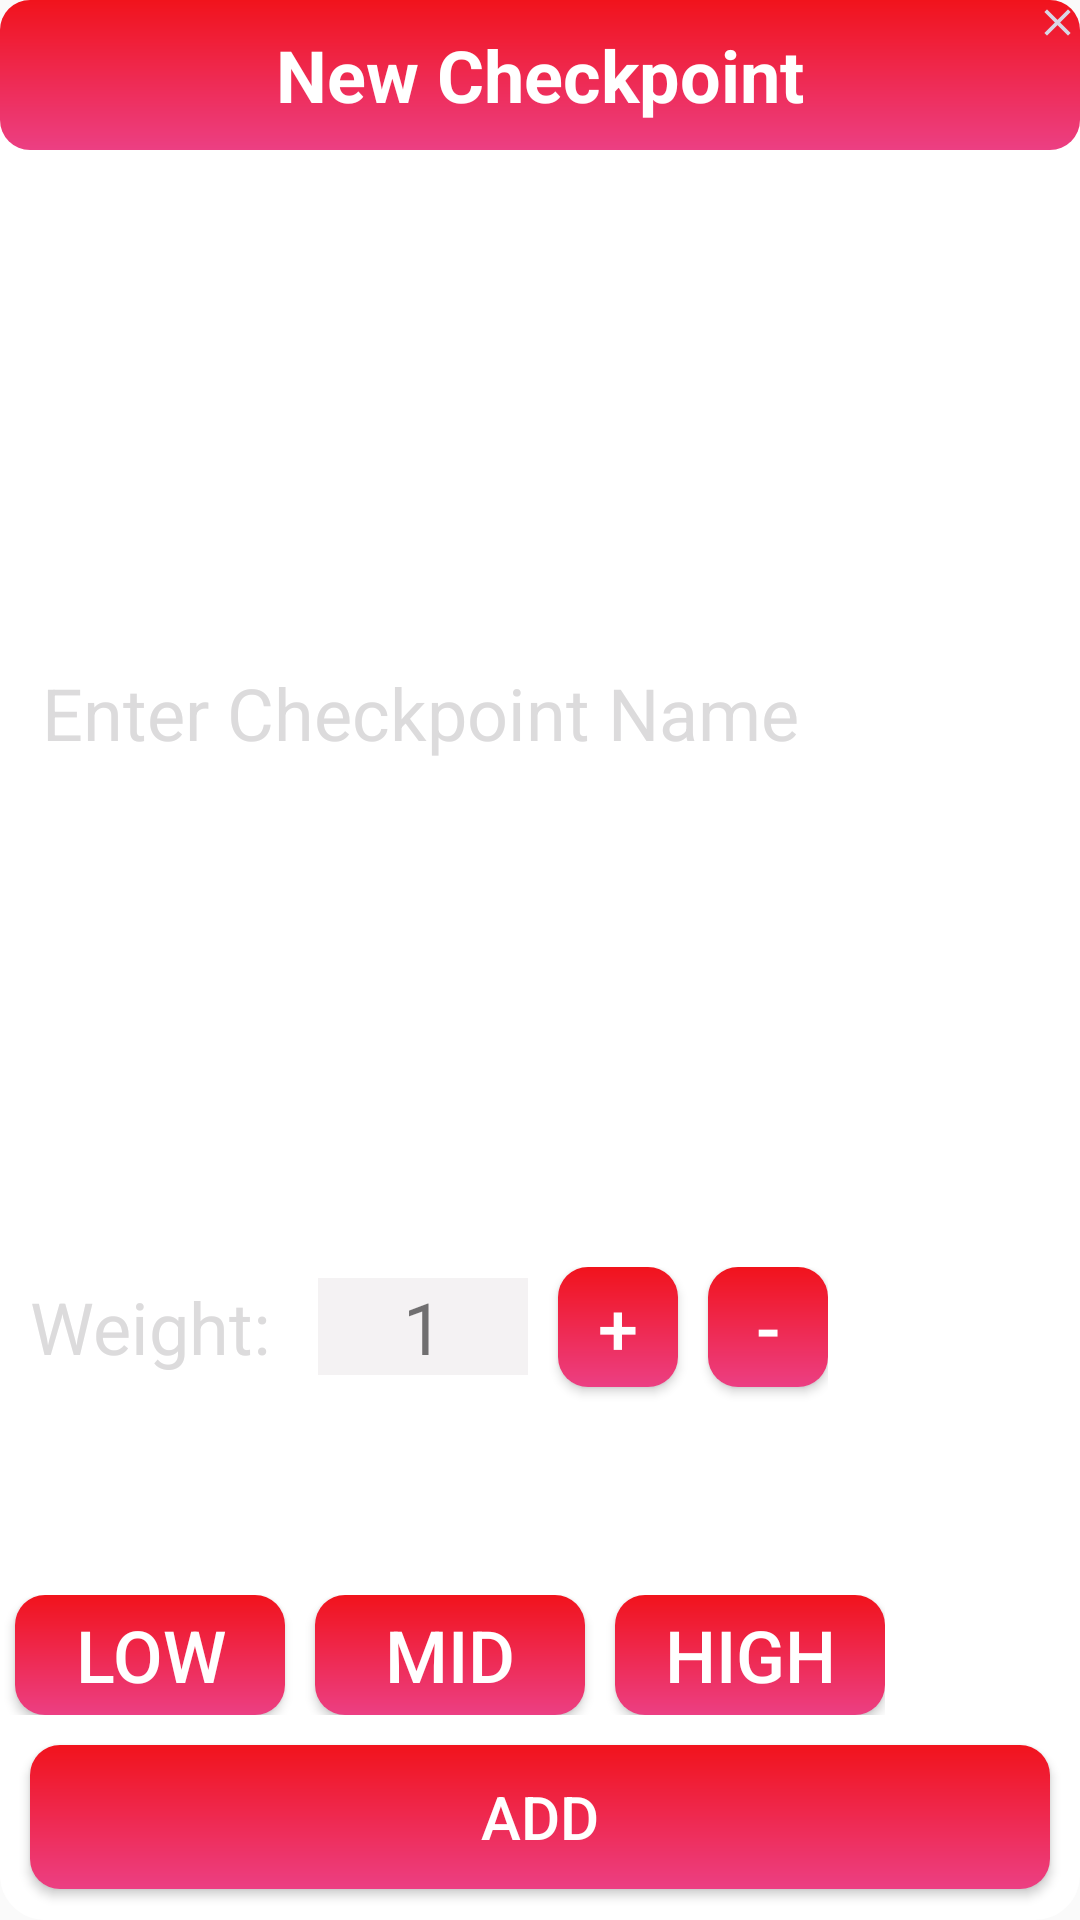

Locate icon controls on the screen. Image size 1080 x 1920, boxes as region(x1, y1, x2, y2).
close: region(1035, 0, 1080, 36)
